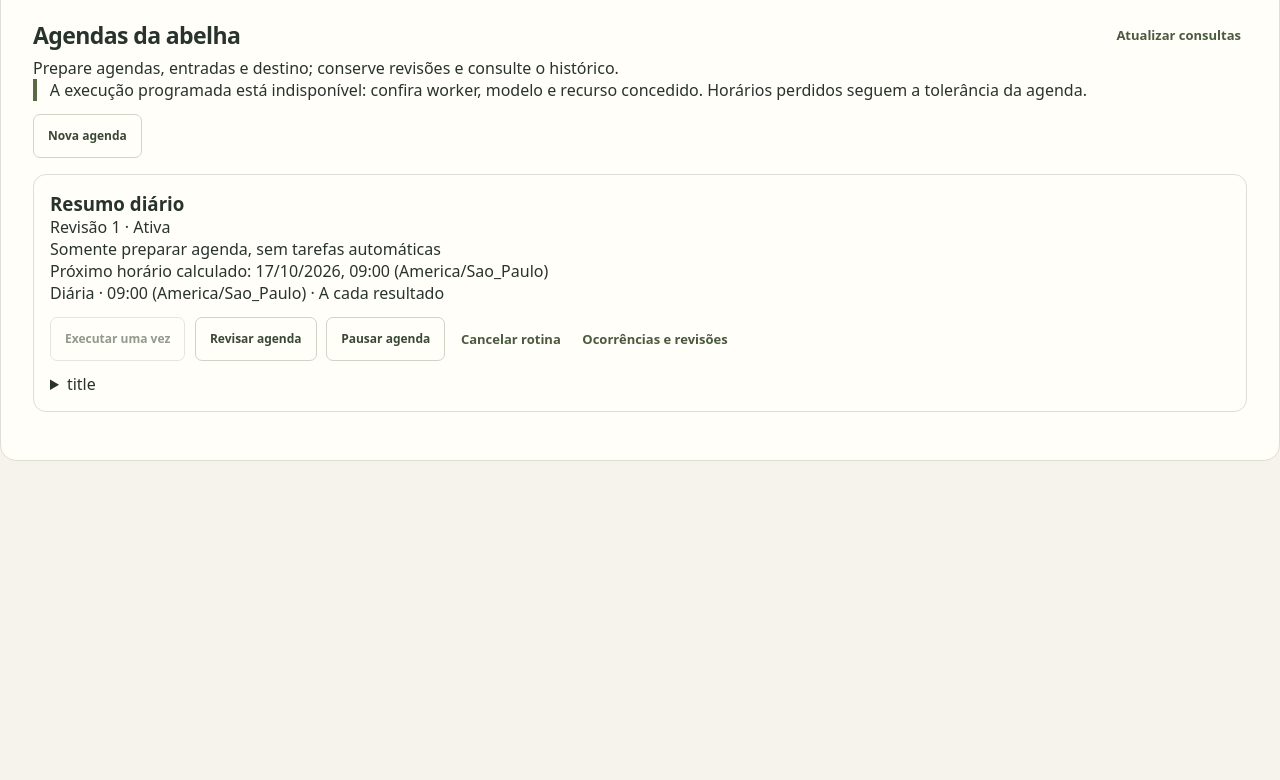
Test case: human routine definitions › refreshes conflicts instead of replacing CAS or silently resubmitting
Click the button "Pausar agenda" at (386, 339), box left=326, top=317, right=445, bottom=361
(page scrolled)
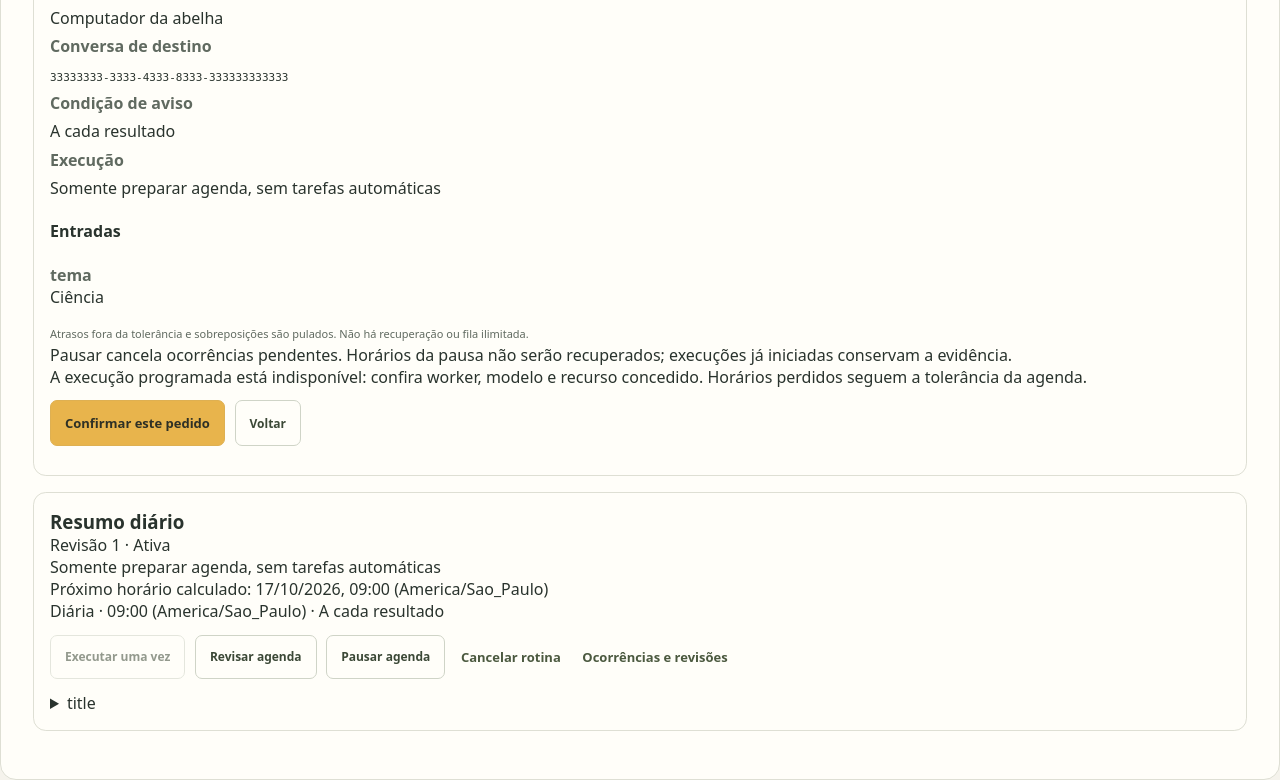
Click the button "Confirmar este pedido" at (137, 423), box left=50, top=400, right=225, bottom=446
(page scrolled)
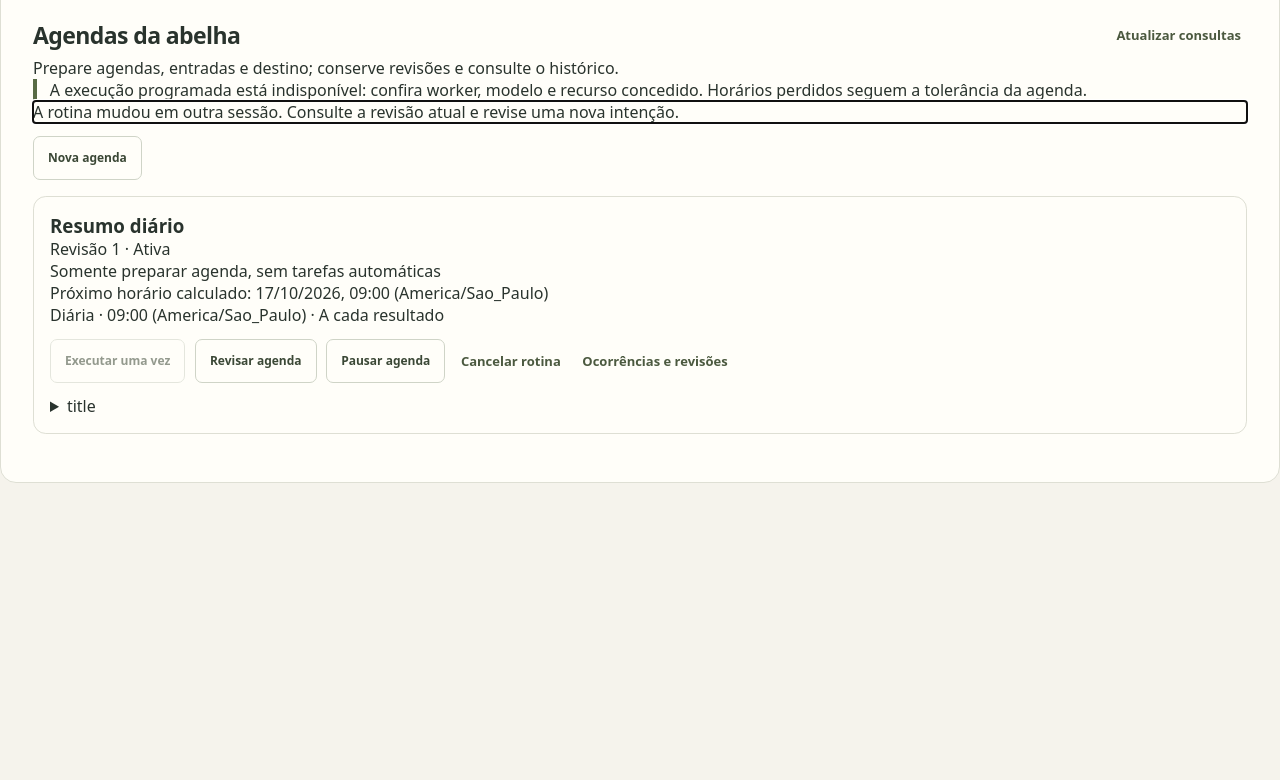
Expected: the text "A rotina mudou em outra sessão" is shown, left=33, top=101, right=679, bottom=123
